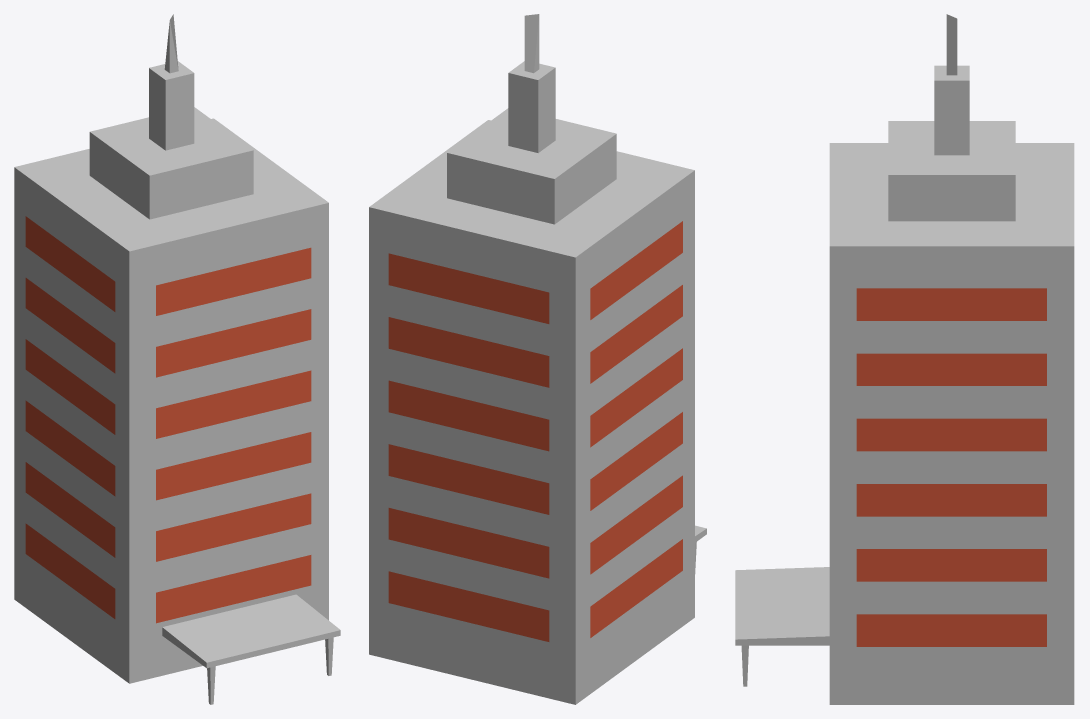
Rendered from building_tall_red.glb.
3 views of the same model, side by side, from view 1: azimuth 30°, elevation 25°; view 2: azimuth 150°, elevation 25°; view 3: azimuth 270°, elevation 25° (orthographic). The views are drawn at different scales.
Visible parts, largest first — view 1: building_tall; view 2: building_tall; view 3: building_tall.
Boxes of the visible parts, x1=… form: building_tall: x1=14, y1=14, x2=340, y2=704; building_tall: x1=369, y1=14, x2=706, y2=704; building_tall: x1=735, y1=14, x2=1074, y2=704.
Bounding box in the file's own units: 9.32 × 26.57 × 12.85.
Materials: 1 (1 with a texture image).
